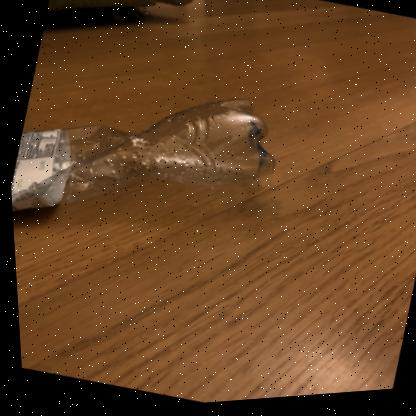Plastic: (8, 101, 272, 210)
